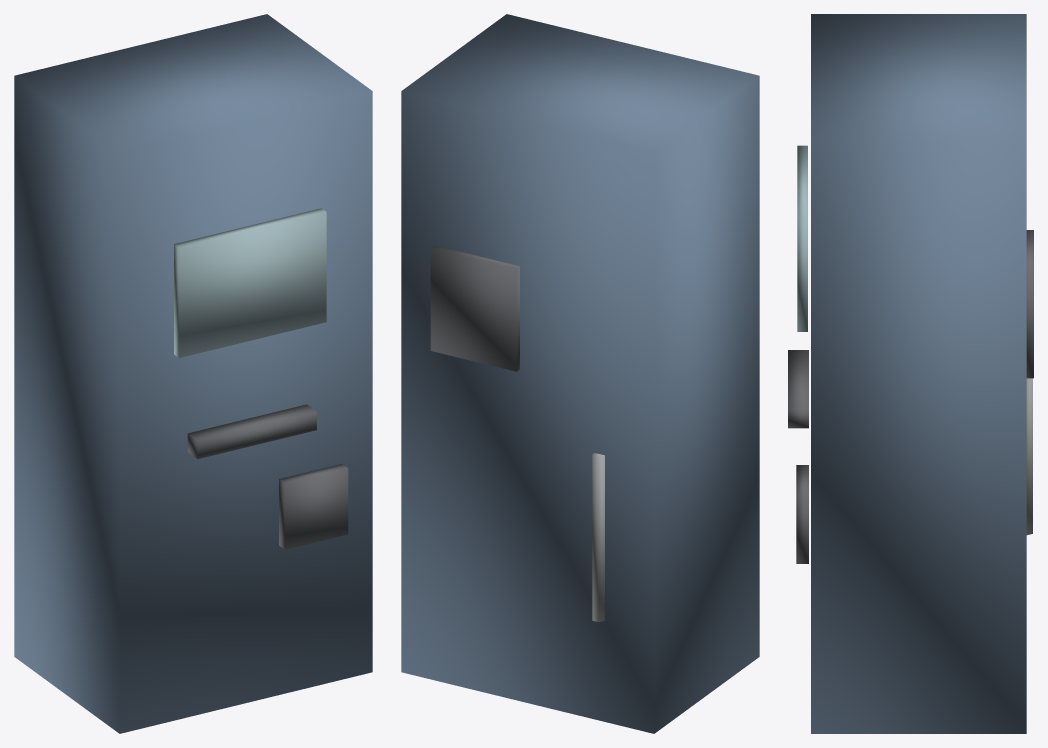
The model's file is ticket_vending_machine__service.glb.
3 renders of one model, left to right at view 1: azimuth 30°, elevation 25°; view 2: azimuth 150°, elevation 25°; view 3: azimuth 270°, elevation 25°, orthographic. The views are drawn at different scales.
Visible parts, largest first — view 1: world; view 2: world; view 3: world.
Part boxes in pixels (box(x1,y1,x2,y2)): world: box(14, 14, 372, 733); world: box(401, 14, 759, 733); world: box(788, 14, 1033, 733).
Bounding box in the file's own units: 0.72 × 1.58 × 0.5925.
